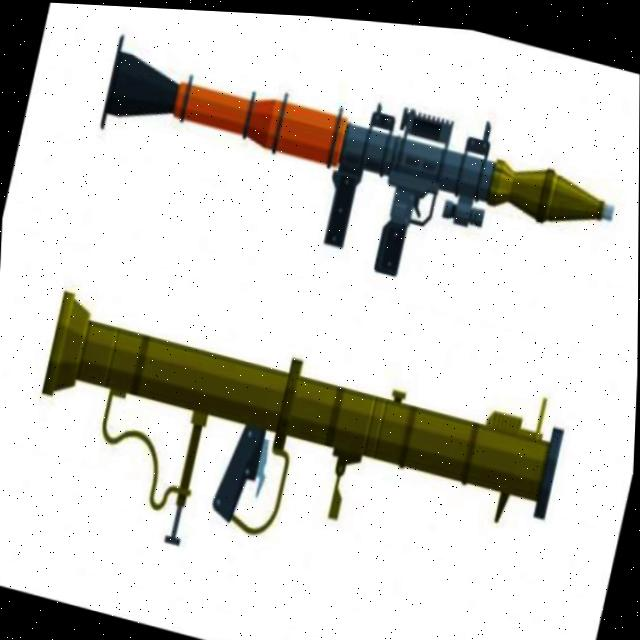rocket: (8, 279, 570, 629)
